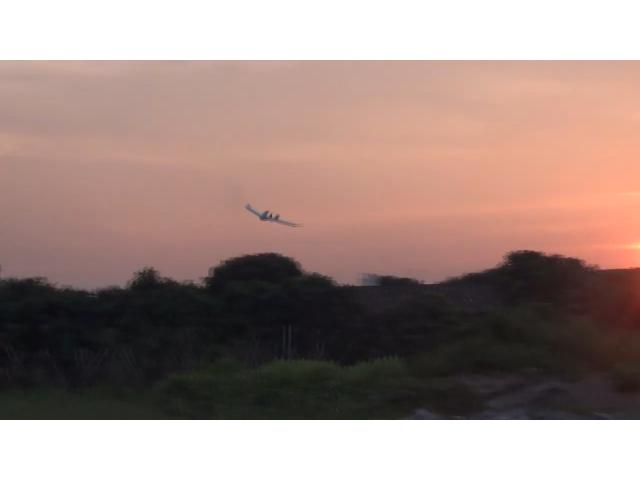Anti-Drone: (245, 204, 301, 228)
